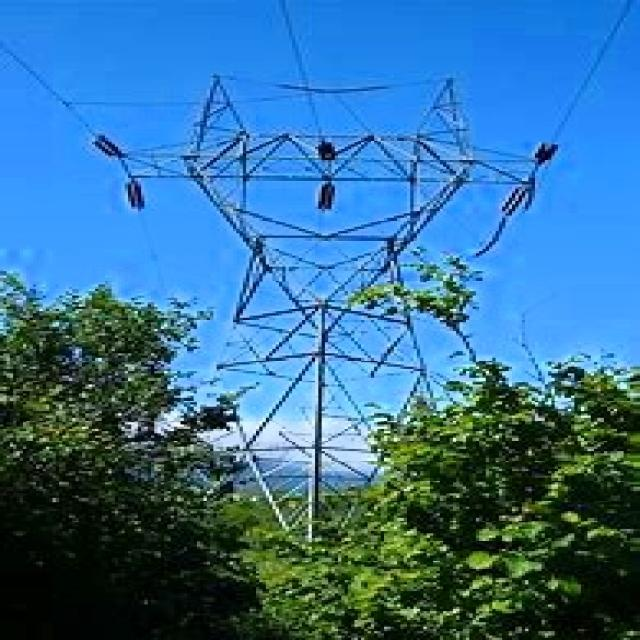utility poles: (349, 267, 521, 430), (139, 267, 289, 419)
